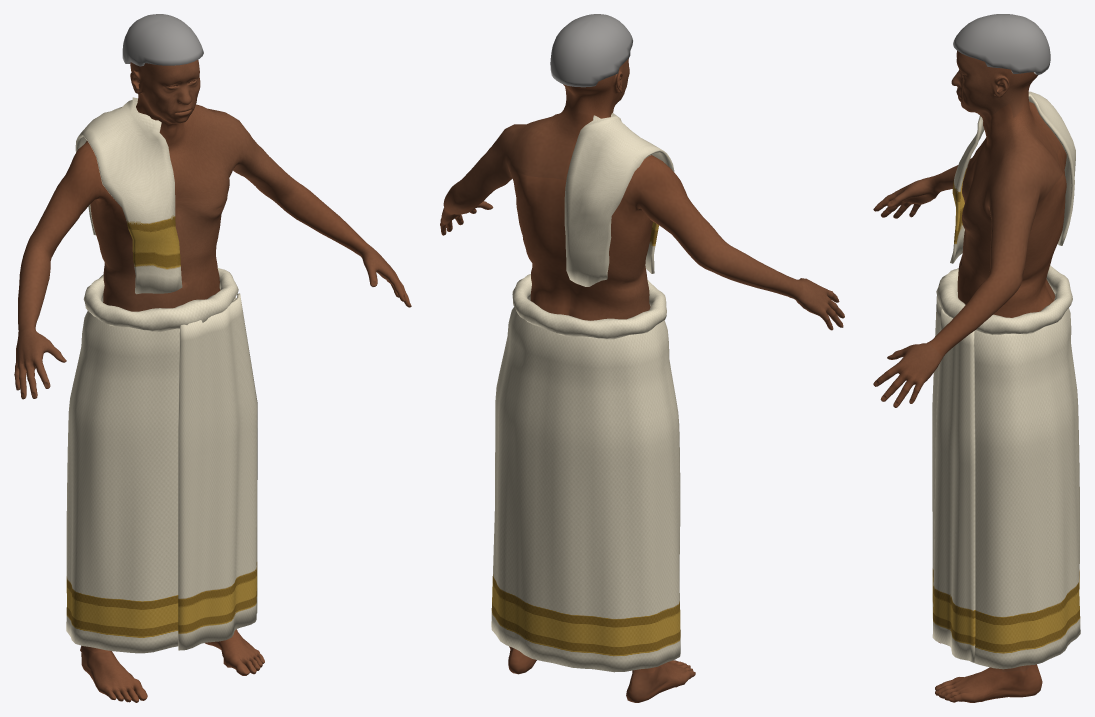
Rendered from elder_man.fbx.
3 views of the same model, side by side, from view 1: azimuth 30°, elevation 25°; view 2: azimuth 150°, elevation 25°; view 3: azimuth 270°, elevation 25° (orthographic).
Visible parts, largest first — view 1: Mixamo_elder_man; view 2: Mixamo_elder_man; view 3: Mixamo_elder_man.
Part boxes in pixels (left/top/right/bottom): Mixamo_elder_man: left=14, top=14, right=411, bottom=702; Mixamo_elder_man: left=440, top=14, right=844, bottom=702; Mixamo_elder_man: left=873, top=14, right=1080, bottom=702.
Bounding box in the file's own units: 1.07 × 1.71 × 0.4939.
Materials: 4 (3 with a texture image).
